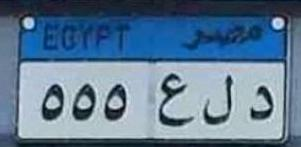5: (68, 77, 98, 125), (36, 78, 67, 124), (102, 82, 133, 126)
ain: (151, 70, 194, 132)
daal: (244, 74, 276, 123)
laam: (199, 71, 238, 132)
